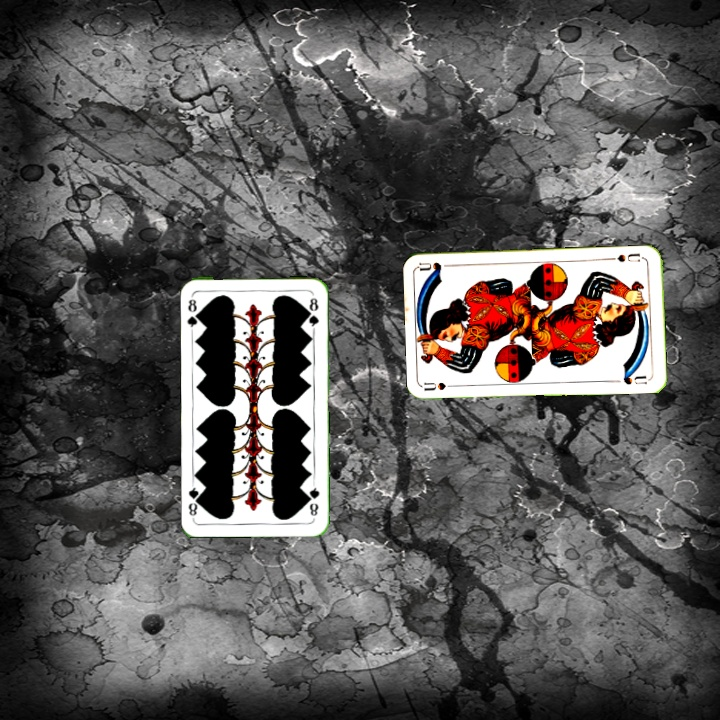G8: (183, 295, 203, 332), (305, 480, 322, 518)
SU: (606, 250, 647, 265), (421, 378, 462, 393)
